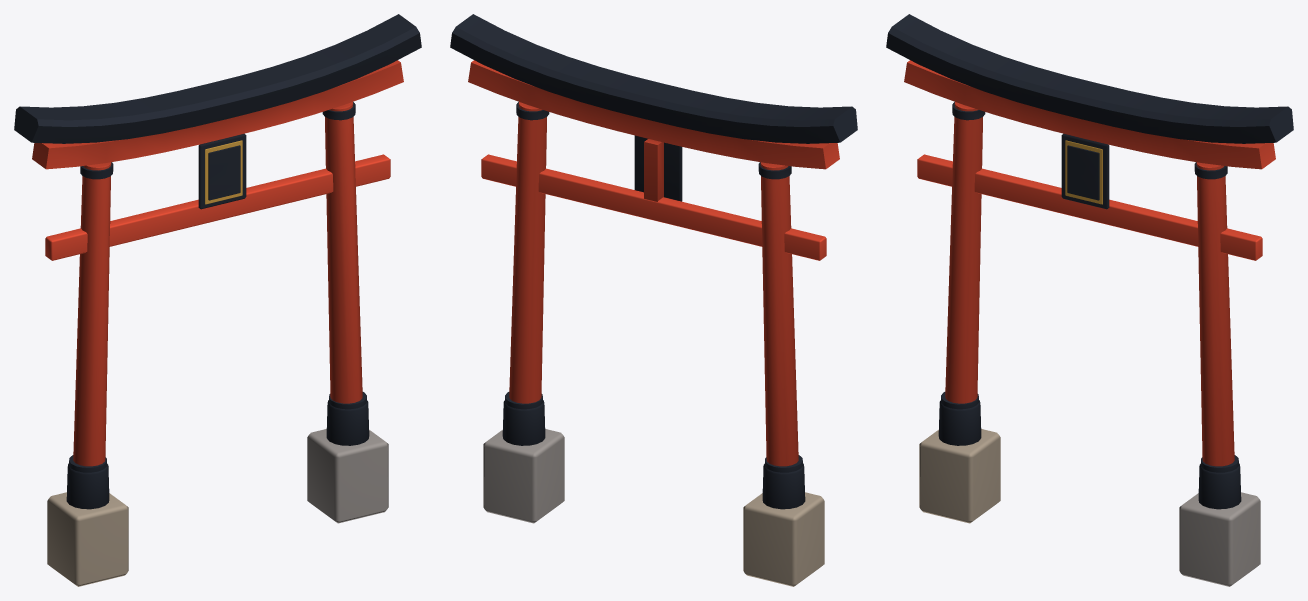
Rendered from torii.glb.
3 renders of one model, left to right at view 1: azimuth 30°, elevation 25°; view 2: azimuth 150°, elevation 25°; view 3: azimuth 330°, elevation 25°, orthographic.
Visible parts, largest first — view 1: Torii Vermilion, Torii Black lacquer, Torii Plaster, Torii Brass; view 2: Torii Vermilion, Torii Black lacquer, Torii Plaster; view 3: Torii Vermilion, Torii Black lacquer, Torii Plaster, Torii Brass.
Boxes of the visible parts, x1,y1,x2,y2 form: Torii Vermilion: [32, 60, 403, 466]; Torii Black lacquer: [14, 14, 421, 509]; Torii Plaster: [47, 429, 388, 586]; Torii Brass: [205, 140, 242, 204]; Torii Vermilion: [468, 60, 839, 466]; Torii Black lacquer: [450, 14, 857, 509]; Torii Plaster: [483, 429, 824, 586]; Torii Vermilion: [904, 60, 1275, 466]; Torii Black lacquer: [886, 14, 1293, 509]; Torii Plaster: [919, 429, 1260, 586]; Torii Brass: [1065, 140, 1102, 204].
Bounding box in the file's own units: 5.17 × 5.98 × 0.72.
